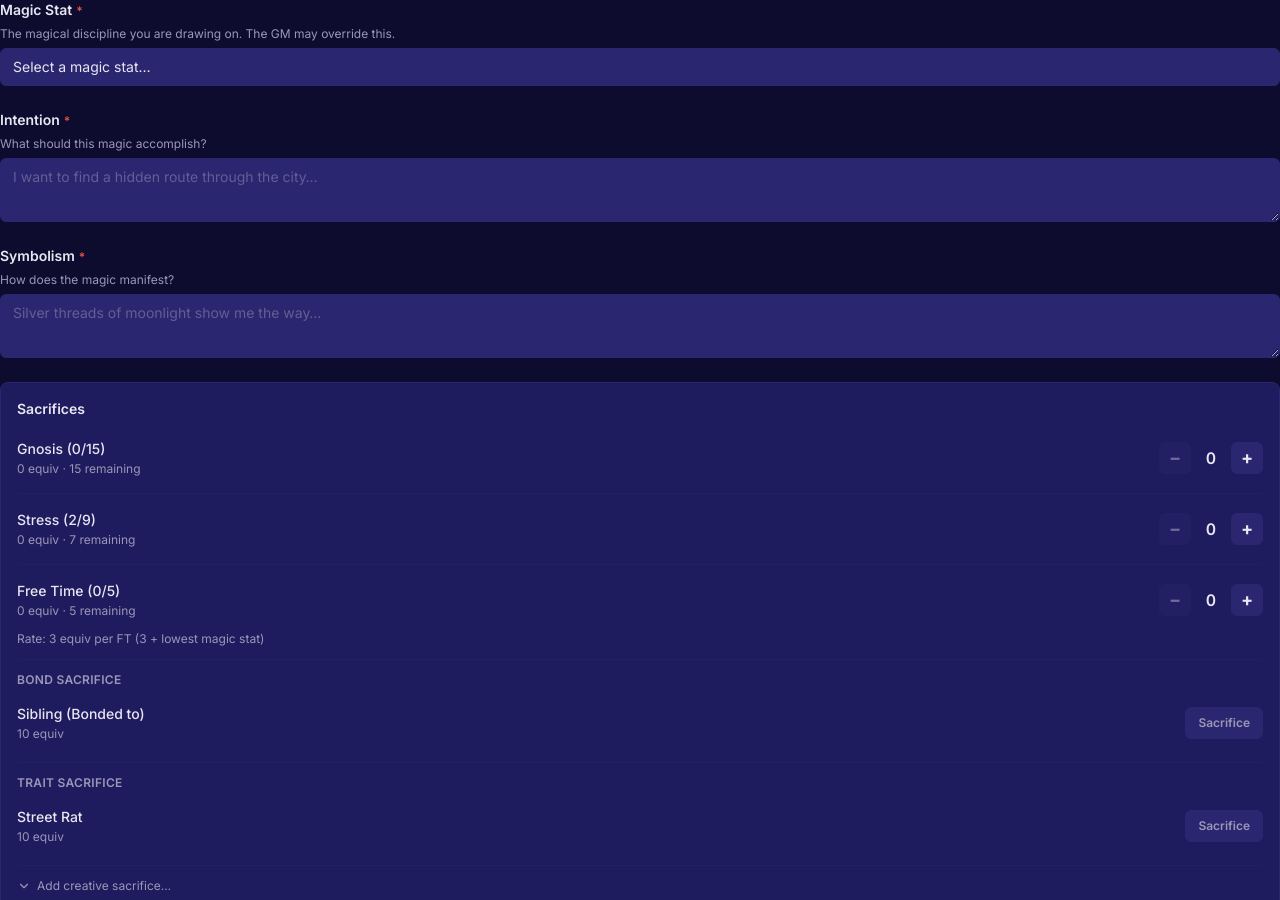
Test: UseMagicForm › dice pool preview › shows stat contribution text when stat is selected
The image size is (1280, 900).
Select "Being (Level 2)" in the dropdown labelled "Magic Stat*". click: (640, 67)
box: [0,48,1279,86]
(page scrolled)
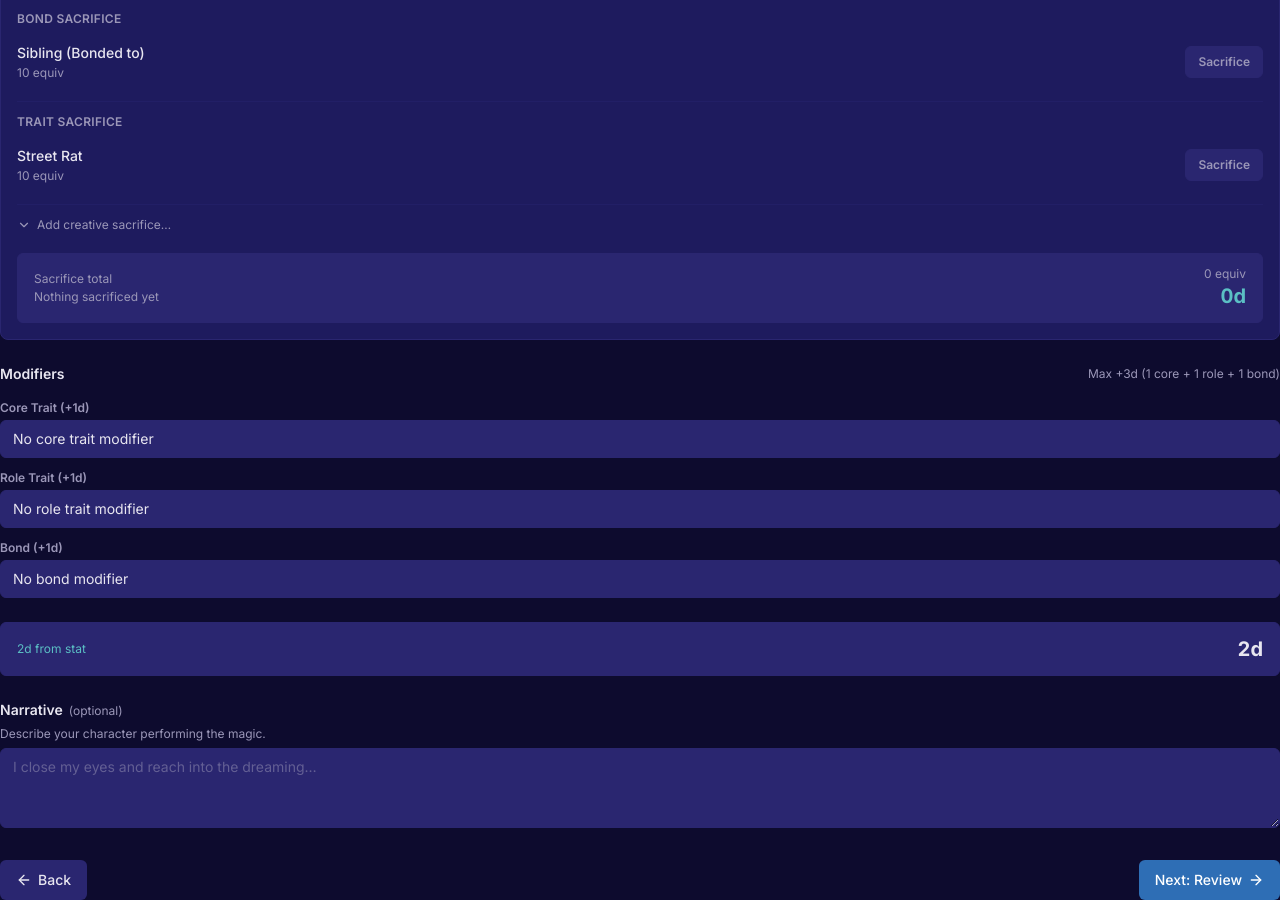
expect the element named "Dice pool preview" shows "2d from stat": met, box [0,622,1279,676]
